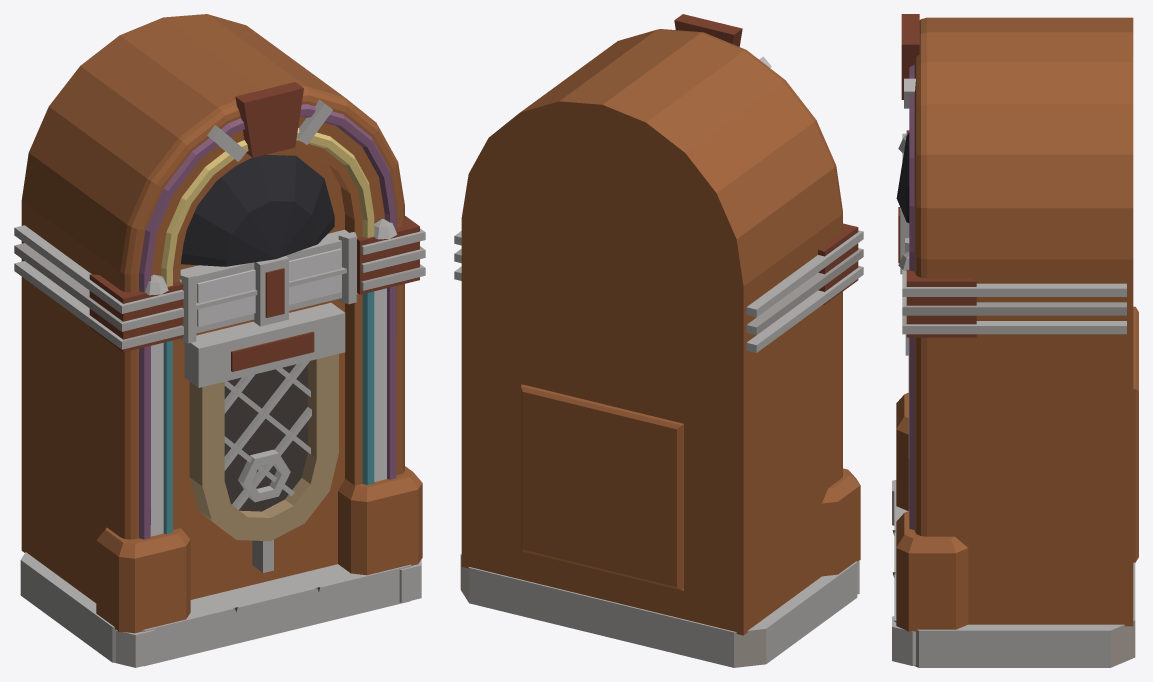
File: bubbler-jukebox-ff71f2.glb
3 views of the same model, side by side, from view 1: azimuth 30°, elevation 25°; view 2: azimuth 150°, elevation 25°; view 3: azimuth 270°, elevation 25° (orthographic). The views are drawn at different scales.
Visible parts, largest first — view 1: jukebox; view 2: jukebox, door-back-mesh; view 3: jukebox, door-back-mesh.
Boxes of the visible parts, x1,y1,x2,y2 form: jukebox: [14, 14, 425, 667]; jukebox: [454, 14, 863, 667]; door-back-mesh: [521, 384, 683, 590]; jukebox: [892, 14, 1135, 667]; door-back-mesh: [1133, 306, 1138, 562].
Bounding box in the file's own units: 0.9 × 1.5 × 0.5992.
